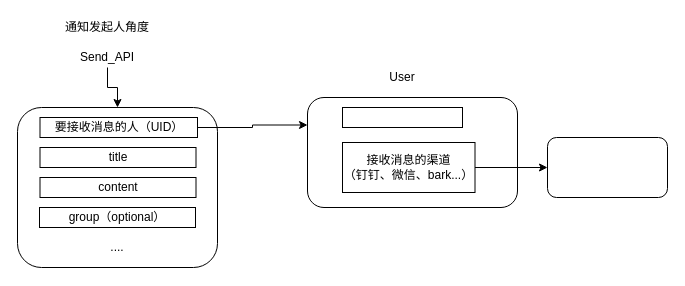
Some shapes in this 685 by 286 pixel diagram are drawn without their labels. Each missing label, with the centre of its shape:
"UID（后端随机生成）" goes at pixel 402 117.
"User在前端自行设置 （可以多选）" goes at pixel 607 167.
